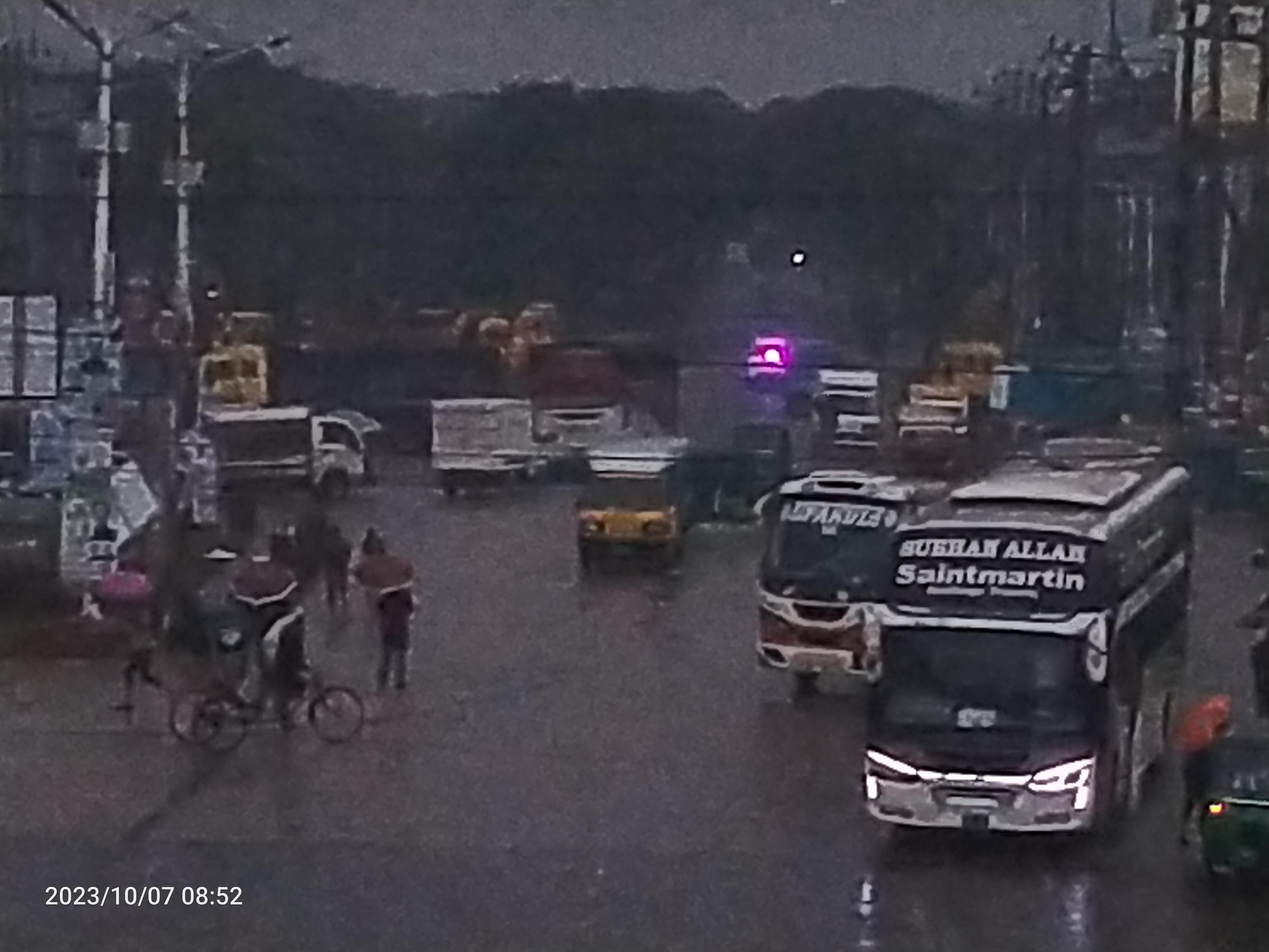Bus: (851, 447, 1210, 882), (731, 453, 955, 719), (500, 323, 718, 471)
Car: (142, 560, 388, 772), (801, 353, 896, 483)
Truck: (556, 403, 722, 603), (180, 384, 403, 513), (411, 366, 561, 512)
